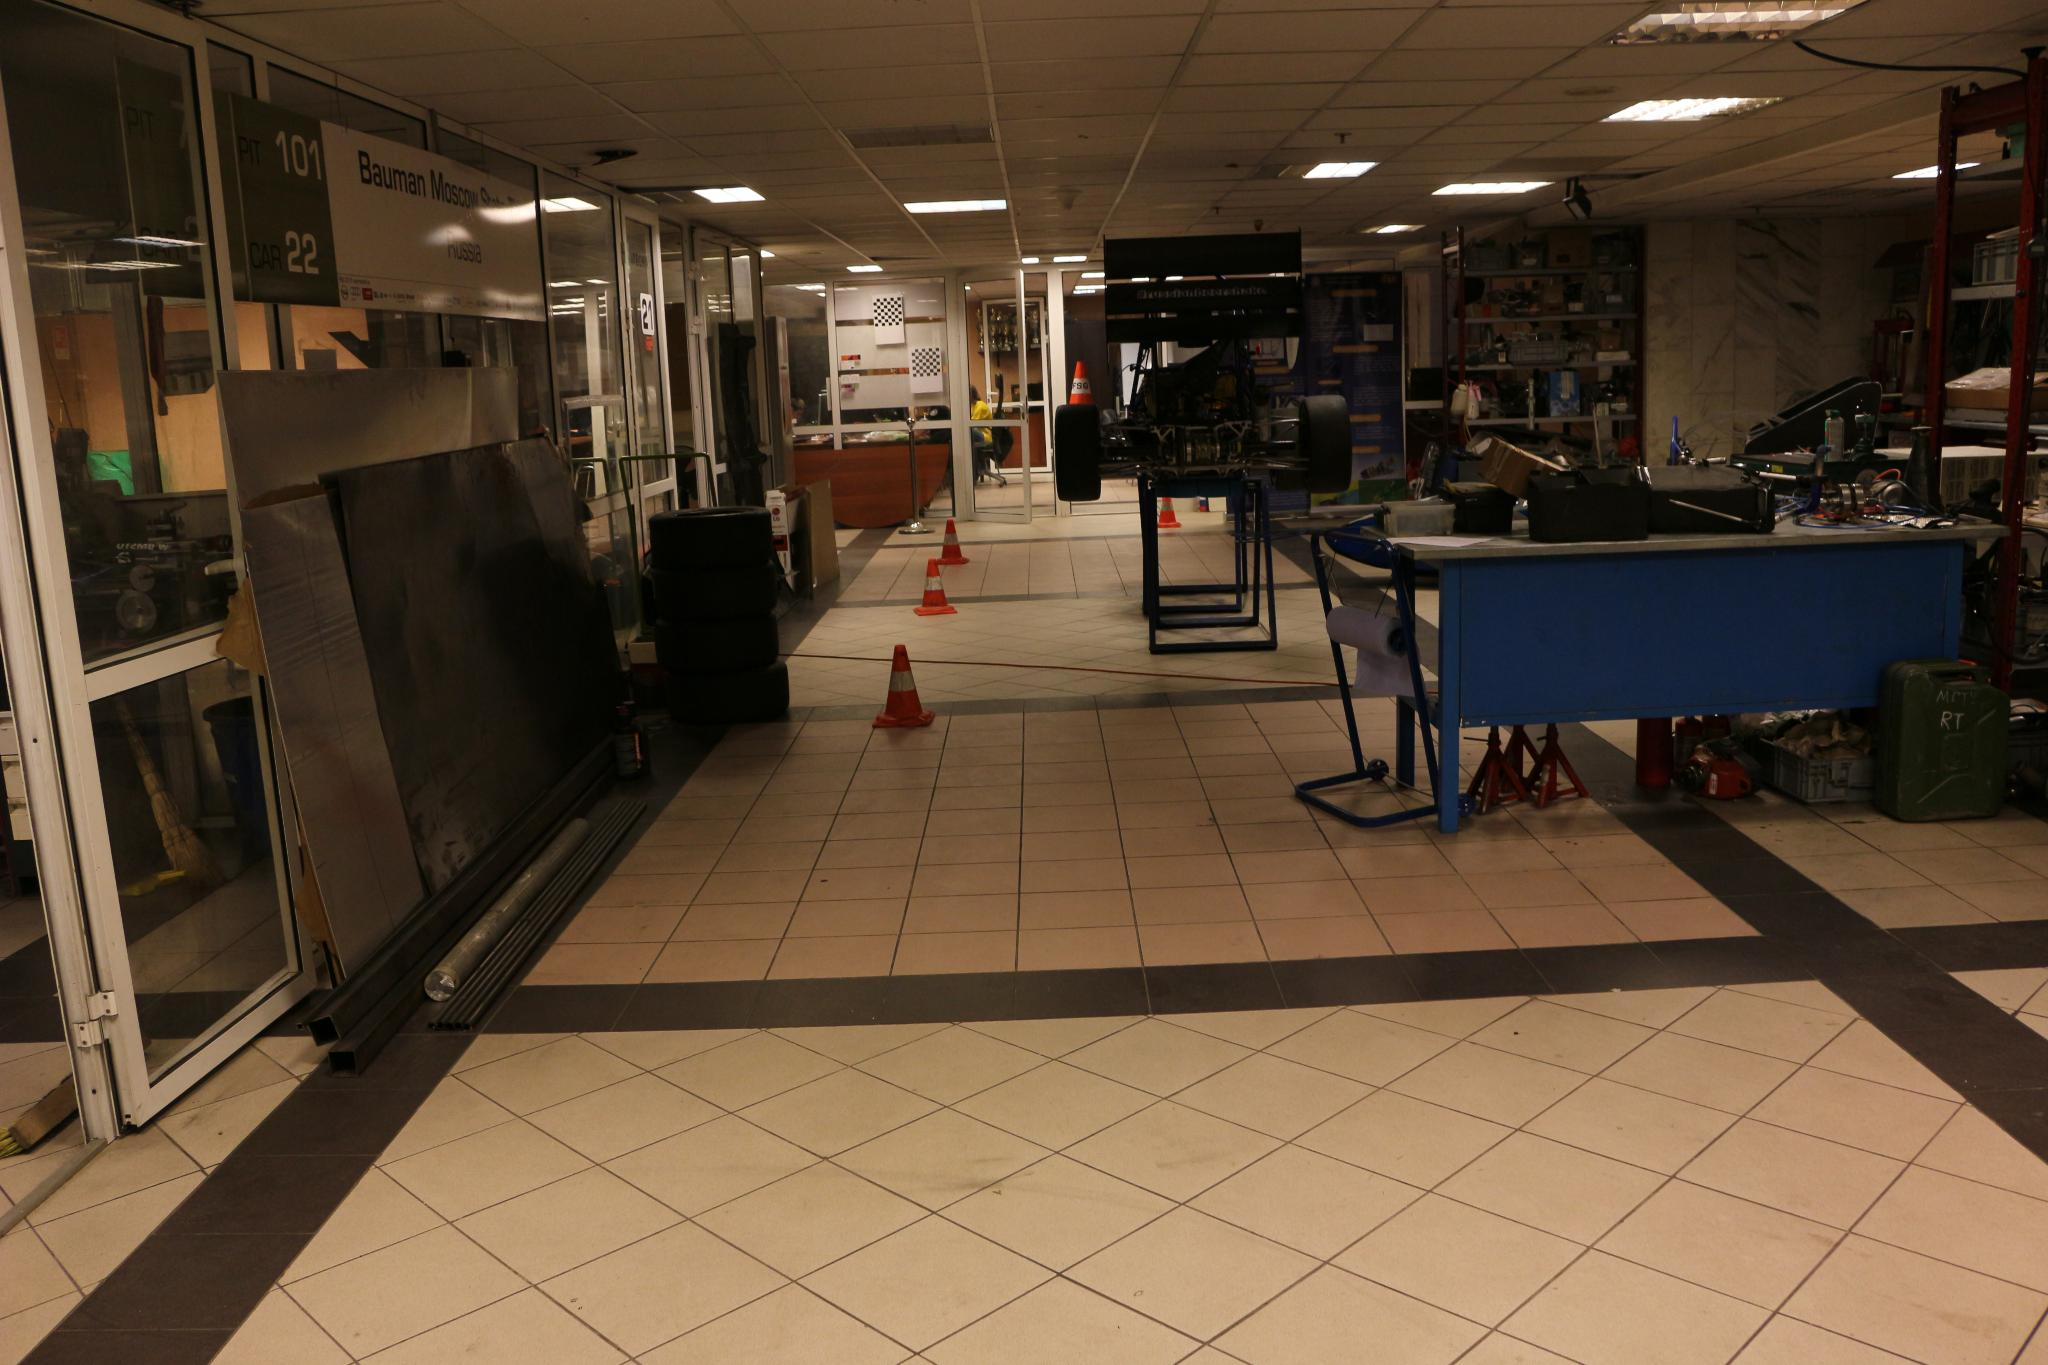Orange_Cone: (868, 641, 938, 734), (1054, 358, 1106, 424), (914, 557, 960, 615), (934, 517, 970, 564), (1152, 486, 1184, 529)
